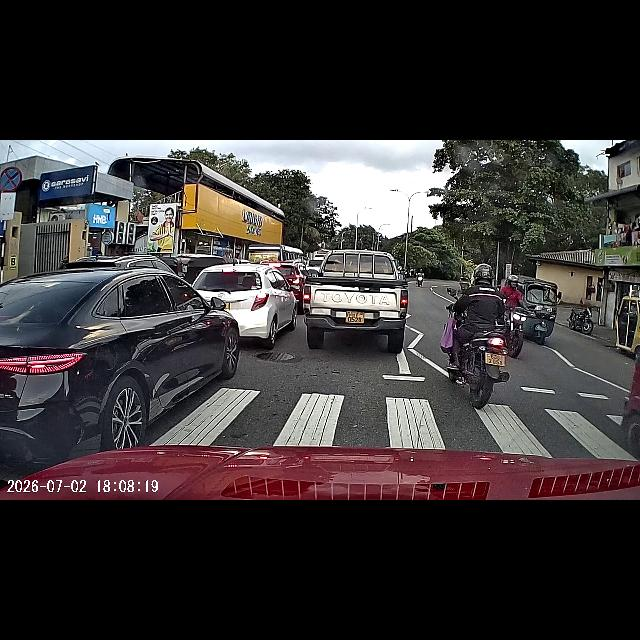car: (64, 277, 186, 411), (322, 249, 396, 341), (232, 268, 284, 336)
crosswalk: (229, 388, 446, 458)
helmet: (476, 264, 492, 288), (510, 274, 518, 286)
motorcycle: (452, 328, 498, 399), (506, 314, 520, 352)
number_plate: (482, 348, 506, 372), (340, 308, 366, 324)
person: (472, 264, 496, 338), (504, 276, 518, 310)
three_wheeler: (526, 277, 554, 335)
